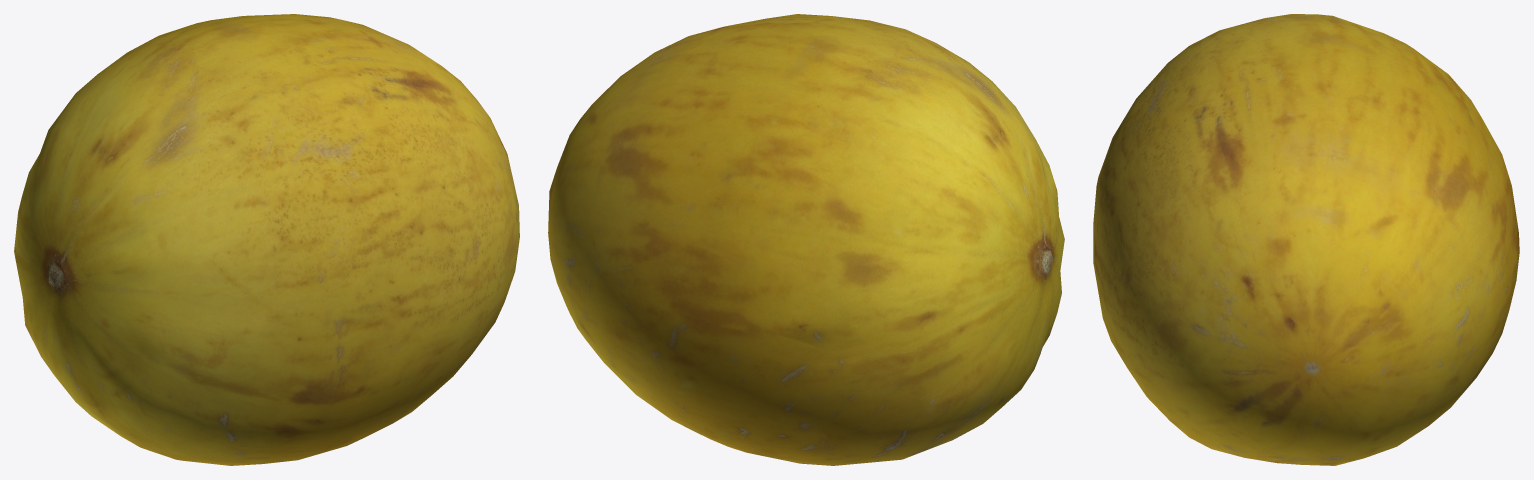
File: 34_melon_yellow.glb
The picture shows the model from 3 angles, left to right: view 1: azimuth 30°, elevation 25°; view 2: azimuth 150°, elevation 25°; view 3: azimuth 270°, elevation 25°; orthographic projection. The views are drawn at different scales.
Parts seen in each view (by area): view 1: 34_yellow_sugar_melon; view 2: 34_yellow_sugar_melon; view 3: 34_yellow_sugar_melon.
Part boxes in pixels (box(x1,y1,x2,y2)): 34_yellow_sugar_melon: box(14, 14, 519, 465); 34_yellow_sugar_melon: box(548, 14, 1064, 465); 34_yellow_sugar_melon: box(1093, 14, 1519, 465).
Size of the model in its own units: 1.06 by 0.8819 by 0.8697.
Materials: 1 (1 with a texture image).
